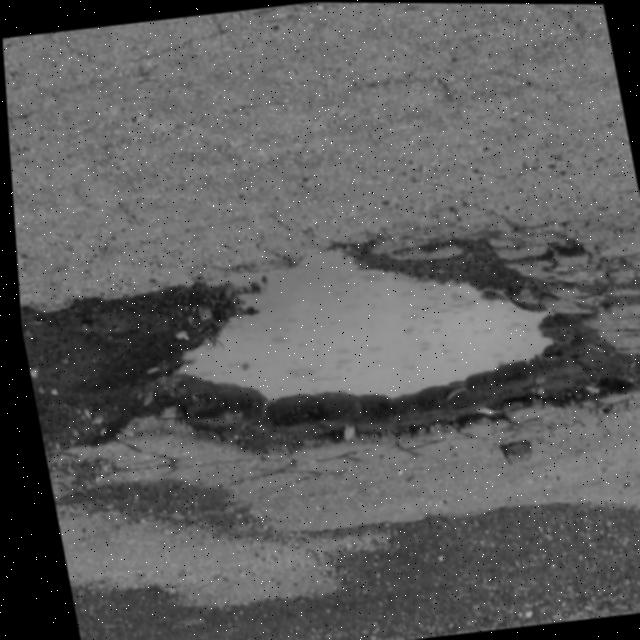Pothole: (122, 191, 615, 477)
